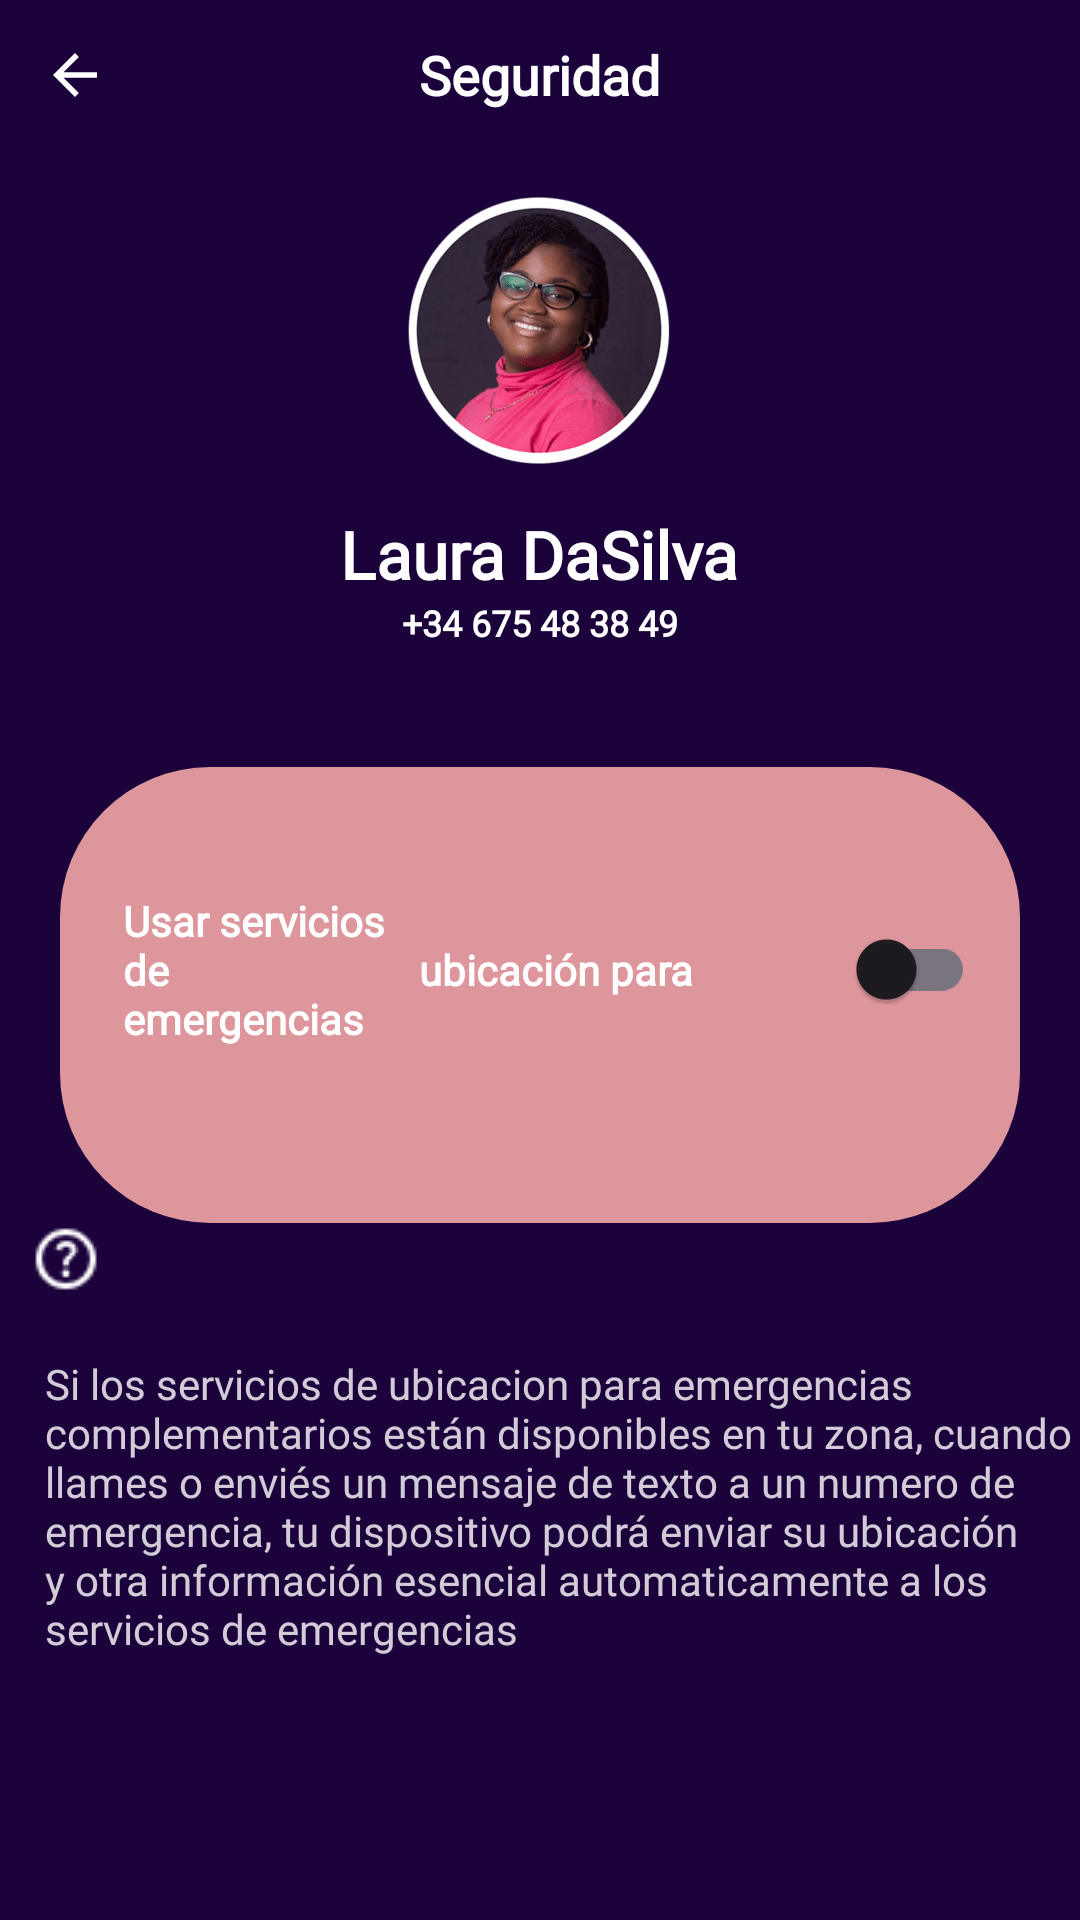

Locate icon controls on the screen. Image size 1080x1920, boxes as (x1, y1, x2, y2).
back: (53, 53, 97, 97)
help: (35, 1228, 97, 1290)
